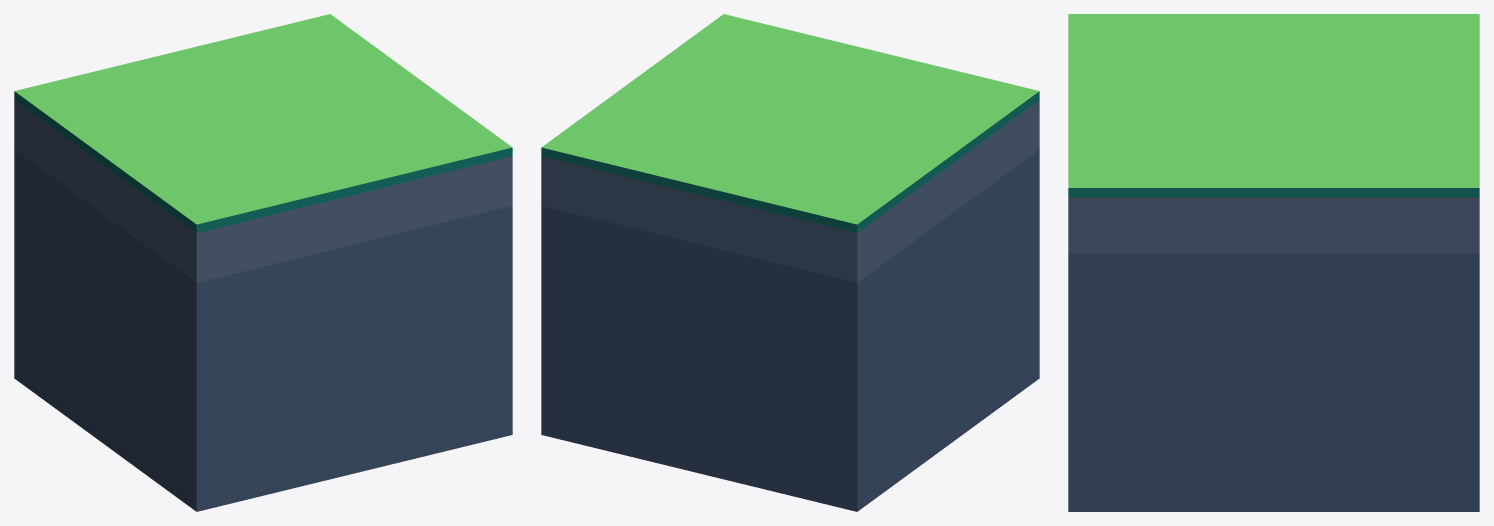
File: Highland_Center.fbx
3 views of the same model, side by side, from view 1: azimuth 30°, elevation 25°; view 2: azimuth 150°, elevation 25°; view 3: azimuth 270°, elevation 25° (orthographic). The views are drawn at different scales.
Visible parts, largest first — view 1: Highland_Center; view 2: Highland_Center; view 3: Highland_Center.
Part boxes in pixels (left/top/right/bottom): Highland_Center: left=14, top=14, right=512, bottom=511; Highland_Center: left=541, top=14, right=1039, bottom=511; Highland_Center: left=1068, top=14, right=1479, bottom=511.
Size of the model in its own units: 1.33 by 1.16 by 1.33.
